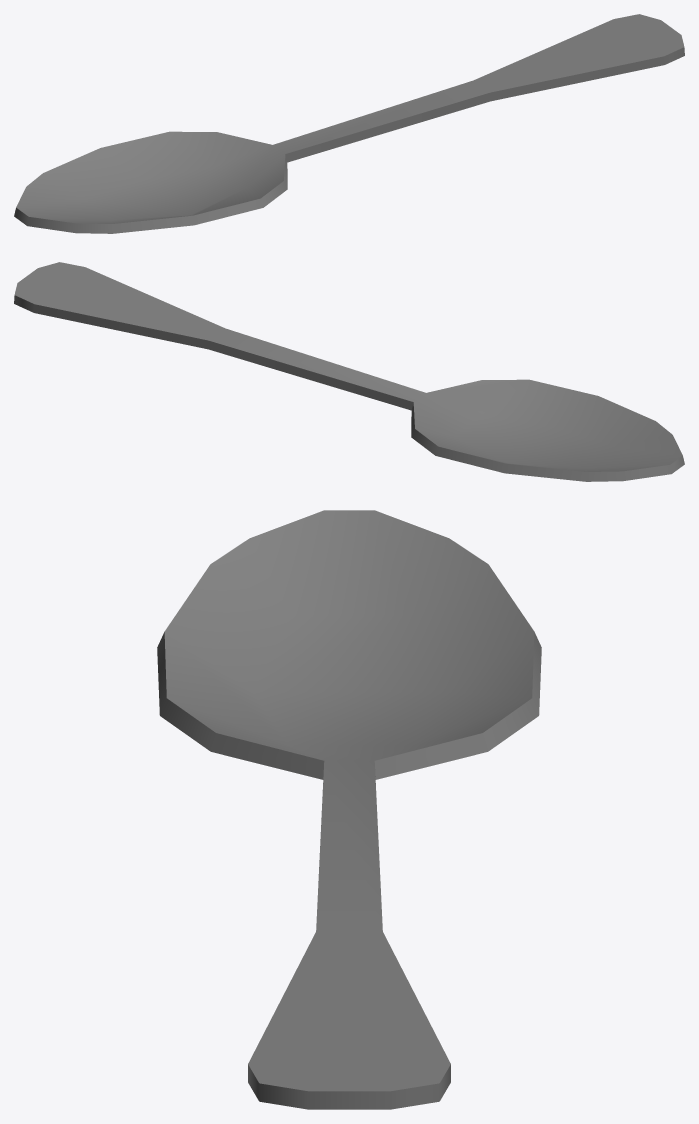
The model's file is Spoon.fbx.
3 renders of one model, top to bottom at view 1: azimuth 30°, elevation 25°; view 2: azimuth 150°, elevation 25°; view 3: azimuth 270°, elevation 25°, orthographic. The views are drawn at different scales.
Visible parts, largest first — view 1: Spoon; view 2: Spoon; view 3: Spoon.
Boxes of the visible parts, x1,y1,x2,y2 form: Spoon: [14, 14, 684, 233]; Spoon: [14, 262, 684, 481]; Spoon: [157, 510, 541, 1109].
Bounding box in the file's own units: 0.1909 × 0.0155 × 0.0488.
